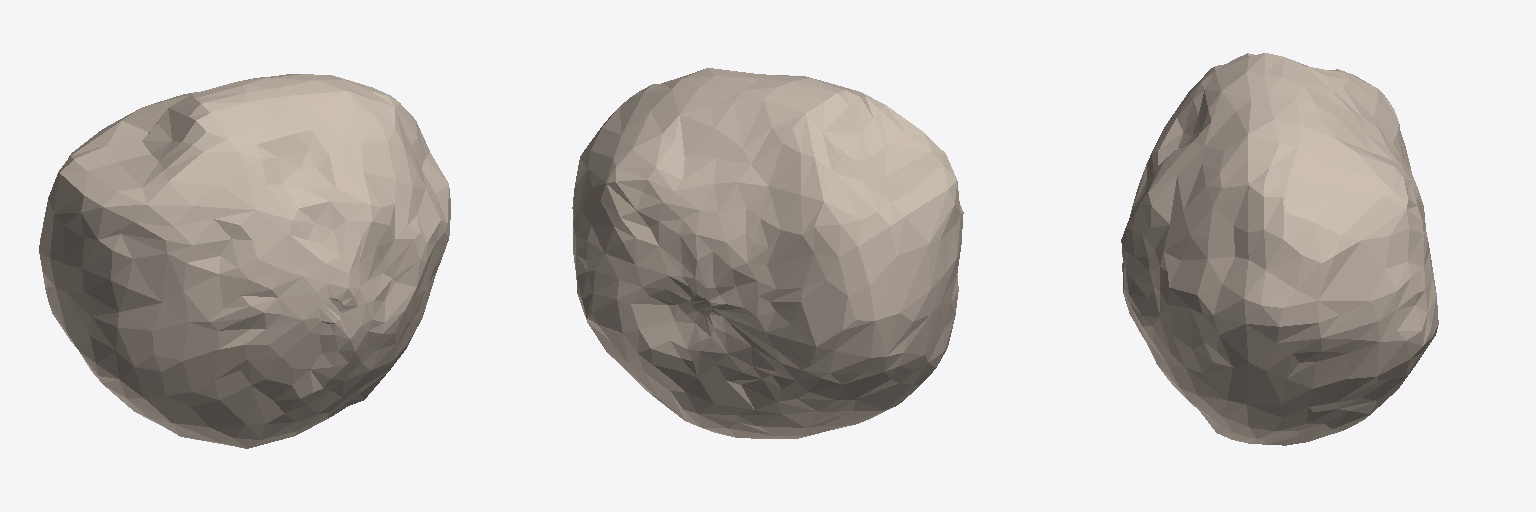
The model's file is phobos_tf.obj.
The picture shows the model from 3 angles: view 1: azimuth 30°, elevation 25°; view 2: azimuth 150°, elevation 25°; view 3: azimuth 270°, elevation 25°; orthographic projection.
Parts seen in each view (by area): view 1: phobos; view 2: phobos; view 3: phobos.
Part boxes in pixels (bbox=[...]): phobos: bbox=[39, 74, 450, 448]; phobos: bbox=[572, 68, 963, 438]; phobos: bbox=[1121, 53, 1438, 445].
Bounding box in the file's own units: 260 × 233 × 194.